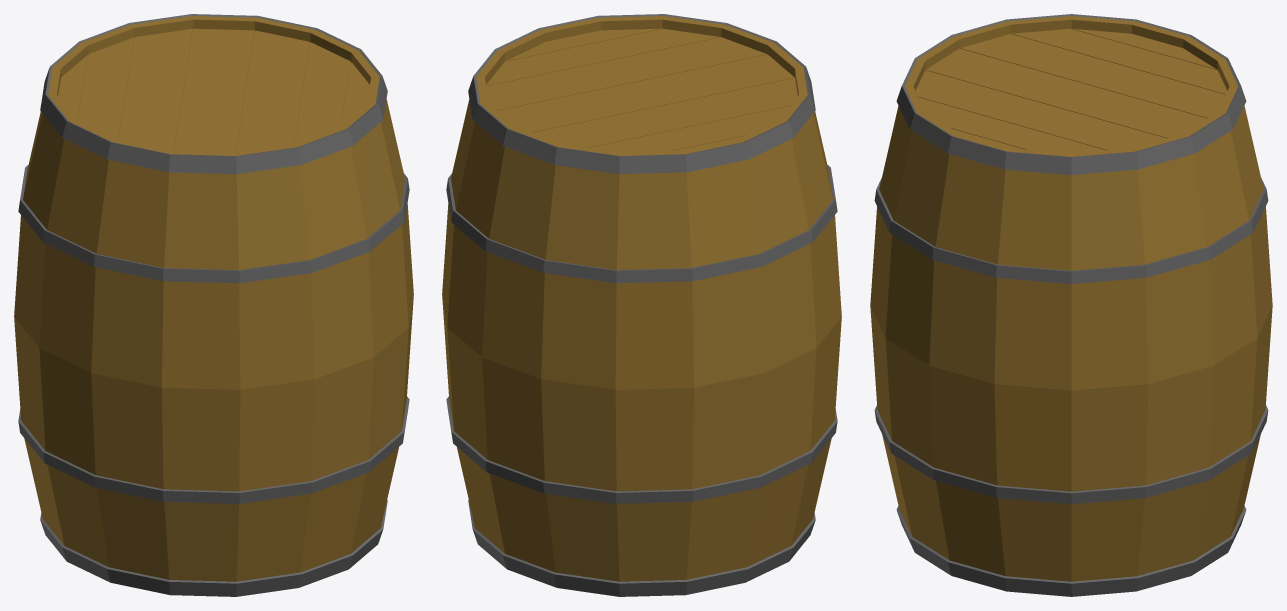
Rendered from Barrel_V1.fbx.
3 views of the same model, side by side, from view 1: azimuth 30°, elevation 25°; view 2: azimuth 150°, elevation 25°; view 3: azimuth 270°, elevation 25° (orthographic).
Visible parts, largest first — view 1: Barrel_Visual, Barrel_Lid; view 2: Barrel_Visual, Barrel_Lid; view 3: Barrel_Visual, Barrel_Lid.
Part boxes in pixels (bbox=[...]): Barrel_Visual: bbox=[14, 14, 413, 596]; Barrel_Lid: bbox=[58, 28, 369, 152]; Barrel_Visual: bbox=[442, 14, 841, 596]; Barrel_Lid: bbox=[486, 28, 797, 152]; Barrel_Visual: bbox=[870, 14, 1272, 596]; Barrel_Lid: bbox=[915, 28, 1227, 153].
Bounding box in the file's own units: 209 × 252 × 209.
